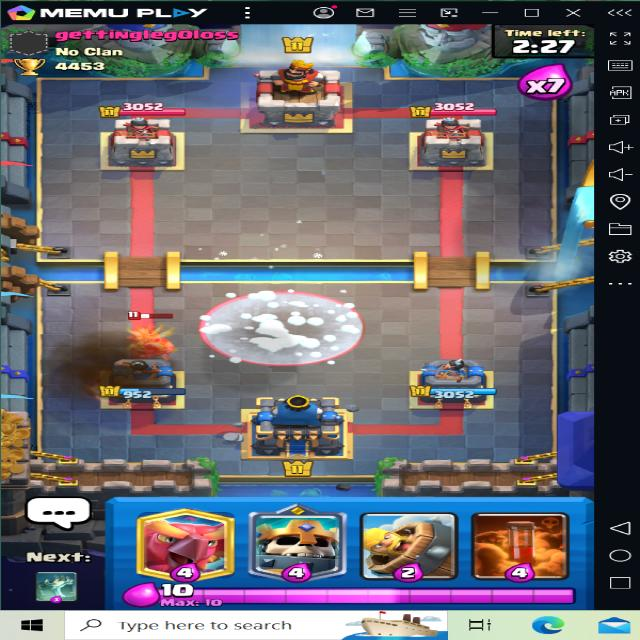Freeze: (189, 282, 370, 368)
Royalrecruits: (117, 306, 172, 361)
